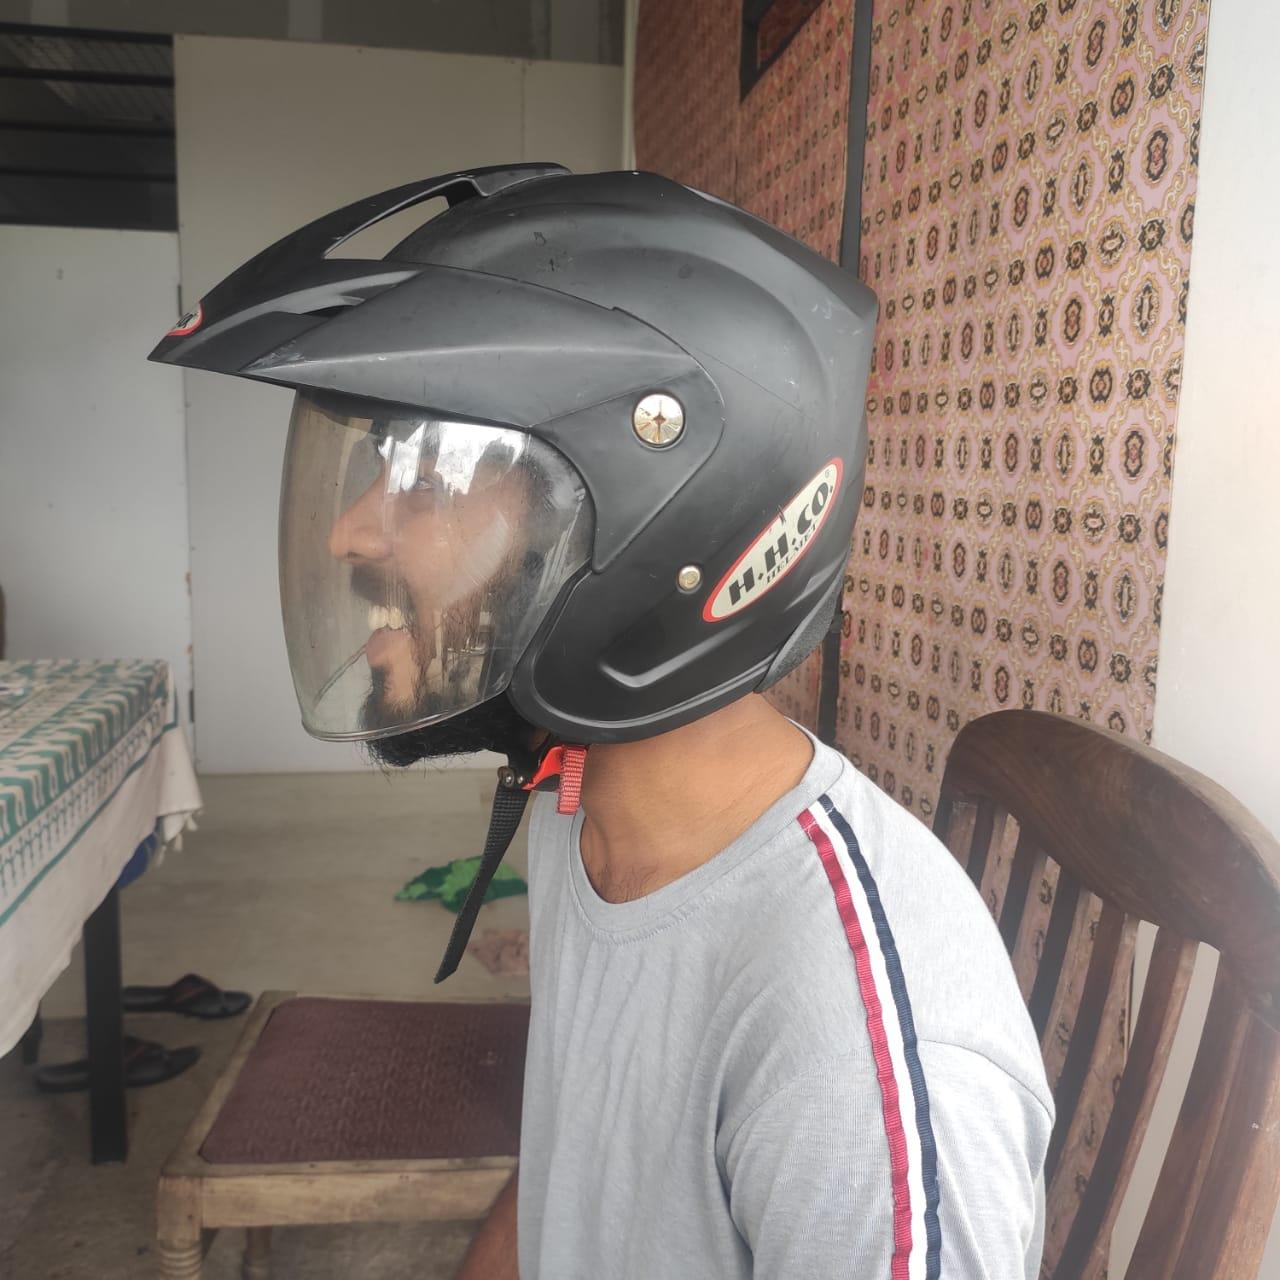helmet: (149, 159, 874, 753)
